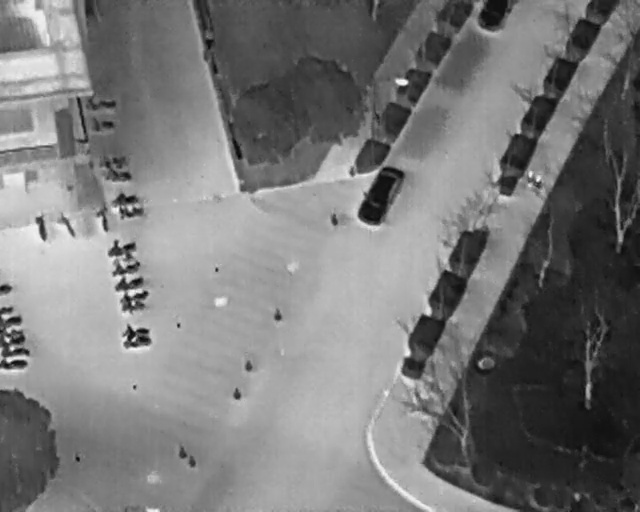Bicycle: (103, 235, 138, 260), (107, 256, 143, 279), (111, 271, 147, 294), (116, 284, 151, 305), (82, 95, 119, 112), (57, 213, 80, 240), (109, 189, 140, 209), (122, 331, 153, 350), (119, 296, 148, 316), (32, 213, 50, 245), (102, 167, 133, 184), (93, 207, 113, 233), (115, 204, 145, 221), (0, 345, 30, 360), (88, 117, 116, 133), (0, 357, 28, 372), (121, 322, 150, 336), (0, 314, 23, 330), (99, 156, 129, 167), (0, 335, 26, 347), (0, 328, 25, 337), (0, 304, 14, 315), (0, 283, 13, 294)
Car: (352, 158, 411, 233)
Person: (534, 174, 544, 195), (526, 169, 535, 190)
